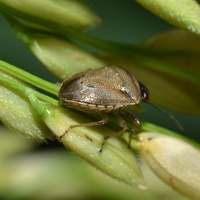insect: (59, 65, 148, 112)
